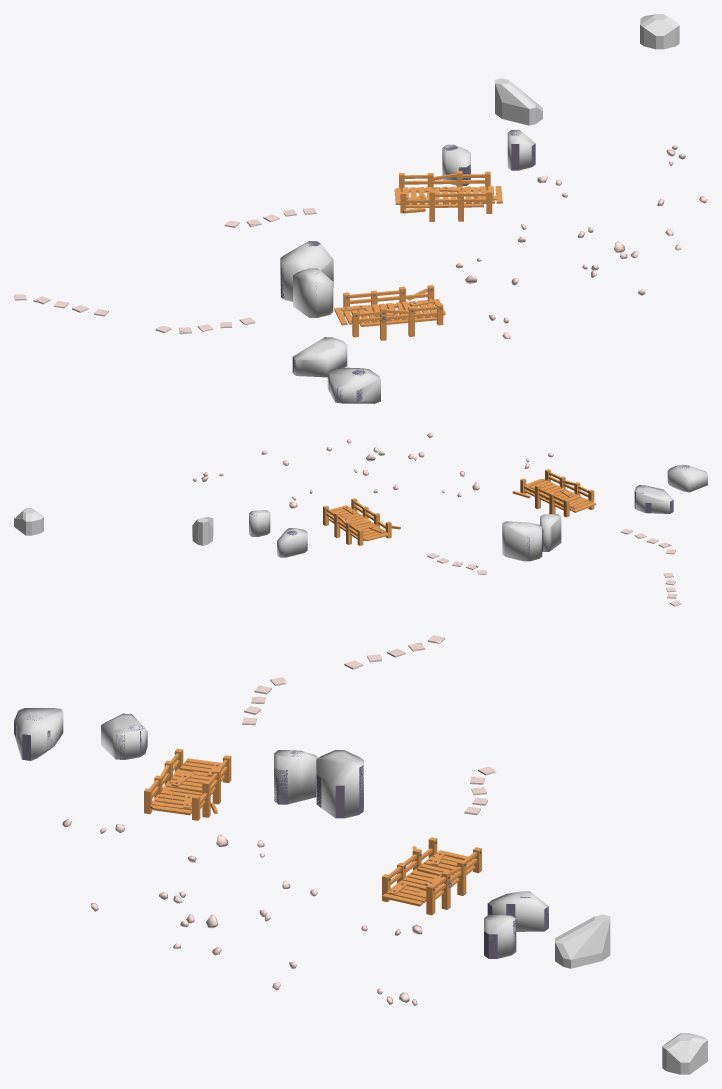
The model's file is scenery.glb.
3 renders of one model, top to bottom at view 1: azimuth 30°, elevation 25°; view 2: azimuth 150°, elevation 25°; view 3: azimuth 270°, elevation 25°, orthographic. The views are drawn at different scales.
Visible parts, largest first — view 1: bridgePhysicalFixed.001, bridgePhysicalFixed, hull.016, hull.011, hull.012, hull.015, hull.002, hull.001, Cube.157, hull.014, hull.013; view 2: bridgePhysicalFixed.001, bridgePhysicalFixed, hull.015, hull.011, hull.012, hull.014, Cube.157, hull.016, hull.001, hull.013, hull.002; view 3: bridgePhysicalFixed, bridgePhysicalFixed.001, hull.015, hull.002, hull.016, hull.011, hull.012, Cube.157, hull.001, hull.014, basaltRocksPhysicalStatic.001, hull.013 (+1 smaller).
Part boxes in pixels (box(x1,y1,x2,y2)): bridgePhysicalFixed.001: box(334, 285, 445, 340); bridgePhysicalFixed: box(394, 171, 502, 221); hull.016: box(293, 268, 333, 317); hull.011: box(327, 367, 380, 403); hull.012: box(293, 337, 347, 377); hull.015: box(280, 241, 333, 301); hull.002: box(495, 78, 542, 125); hull.001: box(640, 14, 679, 49); Cube.157: box(456, 145, 707, 338); hull.014: box(442, 144, 470, 185); hull.013: box(507, 130, 535, 170); bridgePhysicalFixed.001: box(512, 469, 596, 517); bridgePhysicalFixed: box(323, 498, 400, 545); hull.015: box(502, 521, 542, 561); hull.011: box(667, 464, 707, 492); hull.012: box(634, 485, 673, 513); hull.014: box(277, 528, 307, 557); Cube.157: box(193, 432, 553, 508); hull.016: box(540, 514, 561, 551); hull.001: box(14, 508, 43, 535); hull.013: box(249, 510, 270, 536); hull.002: box(192, 517, 213, 545); bridgePhysicalFixed: box(382, 837, 481, 915); bridgePhysicalFixed.001: box(144, 748, 231, 820); hull.015: box(316, 750, 363, 818); hull.002: box(555, 914, 610, 968); hull.016: box(274, 750, 318, 804); hull.011: box(14, 708, 63, 760); hull.012: box(101, 713, 147, 759); Cube.157: box(62, 819, 422, 1005); hull.001: box(662, 1033, 707, 1074); hull.014: box(488, 891, 548, 931); basaltRocksPhysicalStatic.001: box(274, 750, 363, 818); hull.013: box(484, 914, 516, 958).
Bounding box in the file's own units: 85 × 5.47 × 57.53.
Materials: 1 (1 with a texture image).
